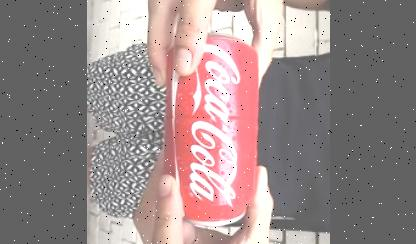Can: (164, 35, 258, 229)
